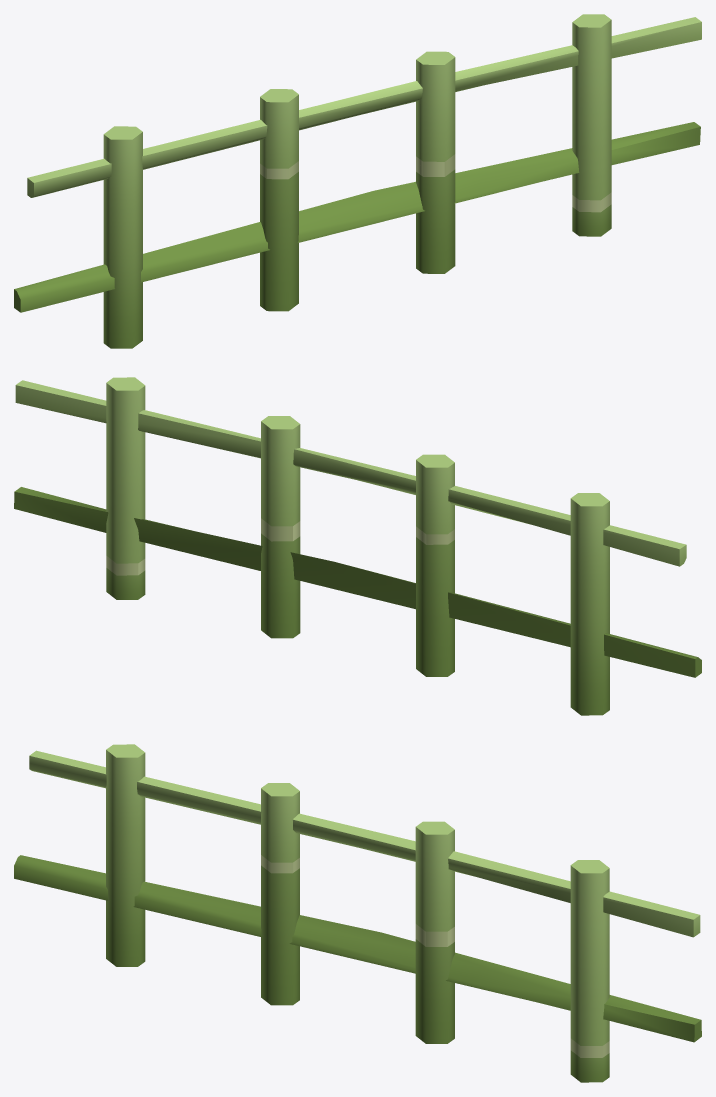
The model's file is Fence_Bamboo.fbx.
3 views of the same model, one above another, from view 1: azimuth 30°, elevation 25°; view 2: azimuth 150°, elevation 25°; view 3: azimuth 330°, elevation 25° (orthographic).
Visible parts, largest first — view 1: Fence_Bamboo; view 2: Fence_Bamboo; view 3: Fence_Bamboo.
Part boxes in pixels (left/top/right/bottom): Fence_Bamboo: left=14, top=14, right=701, bottom=348; Fence_Bamboo: left=14, top=377, right=701, bottom=715; Fence_Bamboo: left=14, top=744, right=701, bottom=1082.
Size of the model in its own units: 3 by 0.8812 by 0.1573.
1 material, 1 textured.
